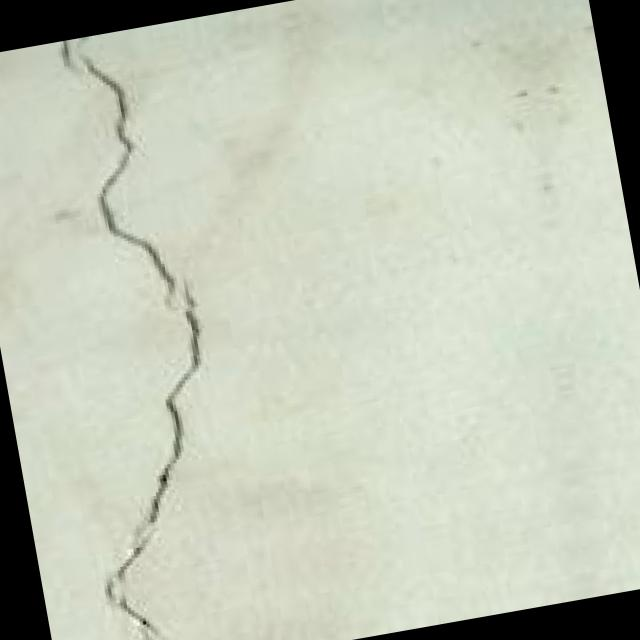crack: (0, 16, 312, 640)
